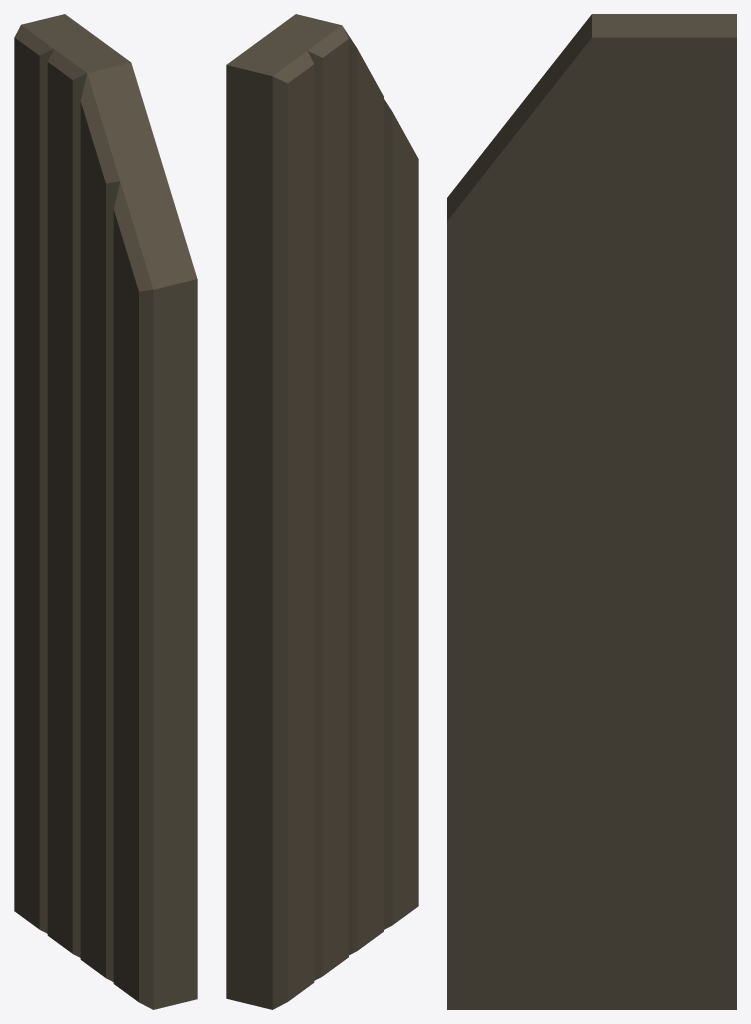
File: porta01.fbx
3 views of the same model, side by side, from view 1: azimuth 30°, elevation 25°; view 2: azimuth 150°, elevation 25°; view 3: azimuth 270°, elevation 25° (orthographic). The views are drawn at different scales.
Visible parts, largest first — view 1: porta01; view 2: porta01; view 3: porta01.
Part boxes in pixels (x1=…): porta01: x1=14, y1=14, x2=197, y2=1009; porta01: x1=226, y1=14, x2=418, y2=1009; porta01: x1=447, y1=14, x2=736, y2=1009.
Size of the model in its own units: 0.3964 by 6.17 by 1.67.
